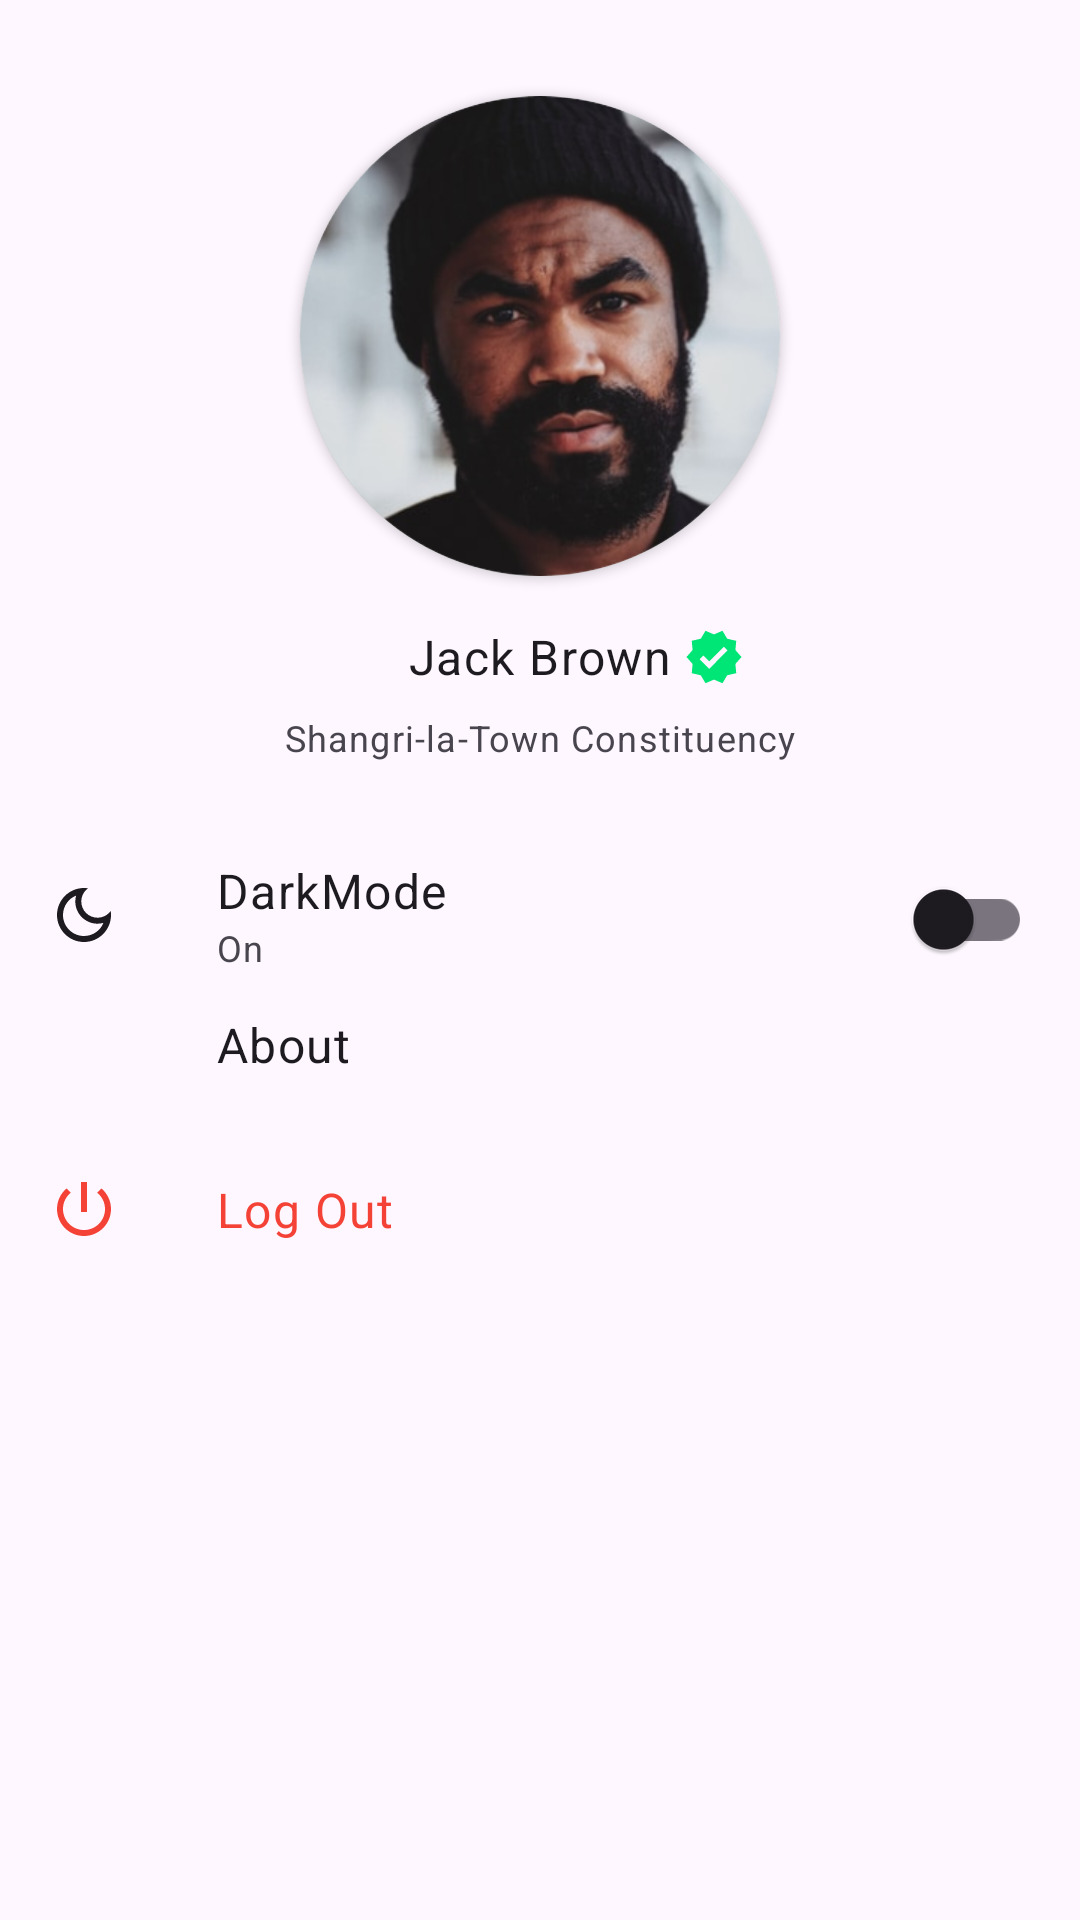

Point at icon controls on the screen. Image size 1080w x 1920h, points as point (x, y).
power settings: point (84, 1209)
verified: point (714, 657)
